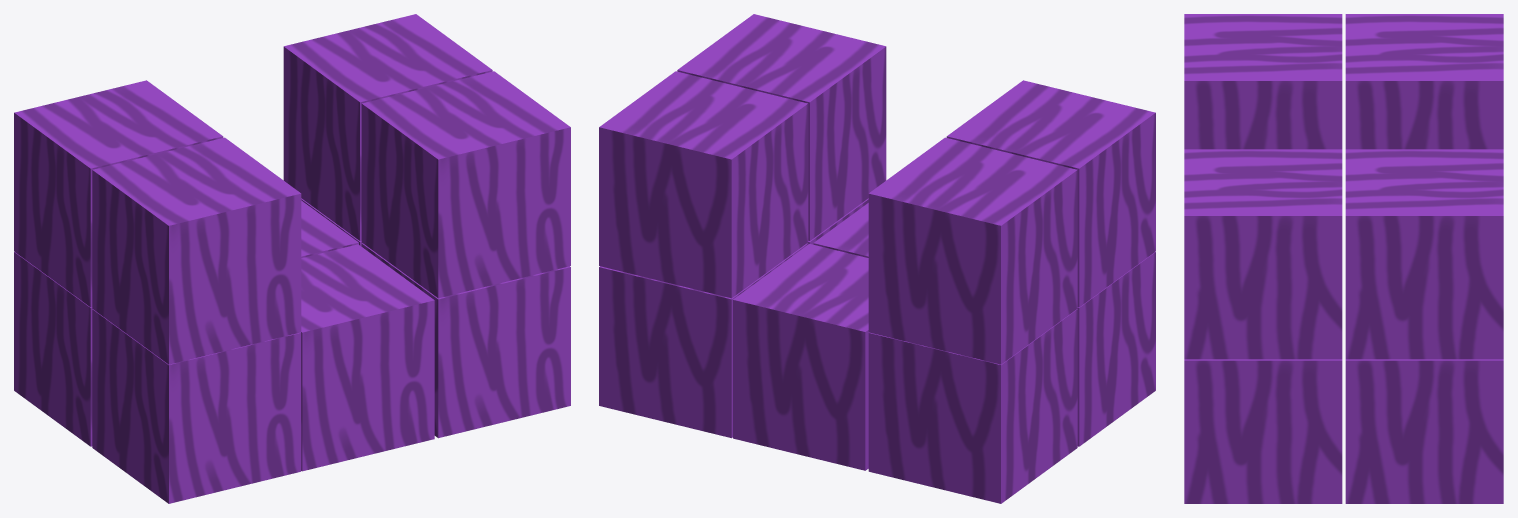
The model's file is Level1-3_Boxes.fbx.
3 renders of one model, left to right at view 1: azimuth 30°, elevation 25°; view 2: azimuth 150°, elevation 25°; view 3: azimuth 270°, elevation 25°, orthographic. The views are drawn at different scales.
Parts seen in each view (by area): view 1: Cube.009, Cube.007, Cube.001, Cube.002, Cube.010, Cube.008, Cube.003, Cube.004, Cube.005; view 2: Cube.010, Cube.008, Cube.004, Cube.005, Cube.009, Cube.007, Cube.006, Cube.001, Cube.002; view 3: Cube.007, Cube.008, Cube.003, Cube.006, Cube.009, Cube.010.
Boxes of the visible parts, x1=… form: Cube.009: x1=92, y1=137, x2=301, y2=364; Cube.007: x1=361, y1=71, x2=570, y2=298; Cube.001: x1=92, y1=309, x2=301, y2=503; Cube.002: x1=301, y1=244, x2=434, y2=471; Cube.010: x1=14, y1=80, x2=223, y2=307; Cube.008: x1=283, y1=14, x2=492, y2=240; Cube.003: x1=361, y1=243, x2=570, y2=438; Cube.004: x1=14, y1=252, x2=92, y2=446; Cube.005: x1=301, y1=200, x2=358, y2=257; Cube.010: x1=868, y1=137, x2=1077, y2=364; Cube.008: x1=599, y1=71, x2=808, y2=298; Cube.004: x1=868, y1=309, x2=1077, y2=503; Cube.005: x1=733, y1=244, x2=868, y2=470; Cube.009: x1=946, y1=80, x2=1155, y2=307; Cube.007: x1=677, y1=14, x2=886, y2=240; Cube.006: x1=599, y1=243, x2=808, y2=438; Cube.001: x1=1077, y1=252, x2=1155, y2=446; Cube.002: x1=813, y1=203, x2=868, y2=257; Cube.007: x1=1184, y1=149, x2=1342, y2=359; Cube.008: x1=1345, y1=149, x2=1503, y2=359; Cube.003: x1=1184, y1=359, x2=1342, y2=503; Cube.006: x1=1345, y1=359, x2=1503, y2=503; Cube.009: x1=1184, y1=14, x2=1342, y2=149; Cube.010: x1=1345, y1=14, x2=1503, y2=149.
Bounding box in the file's own units: 801 × 531 × 534.
